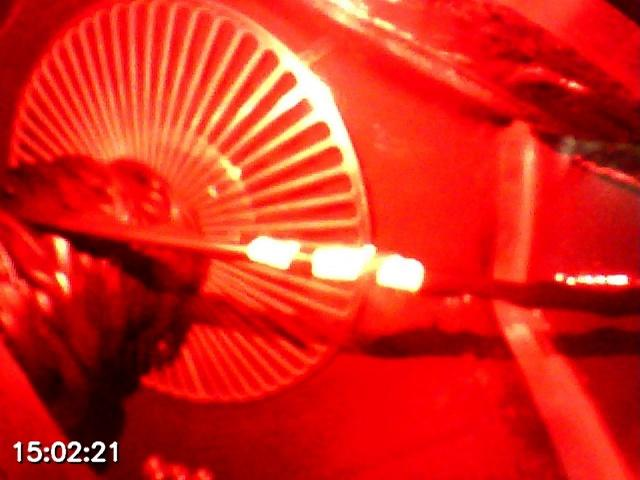white-dots: (247, 235, 426, 294)
